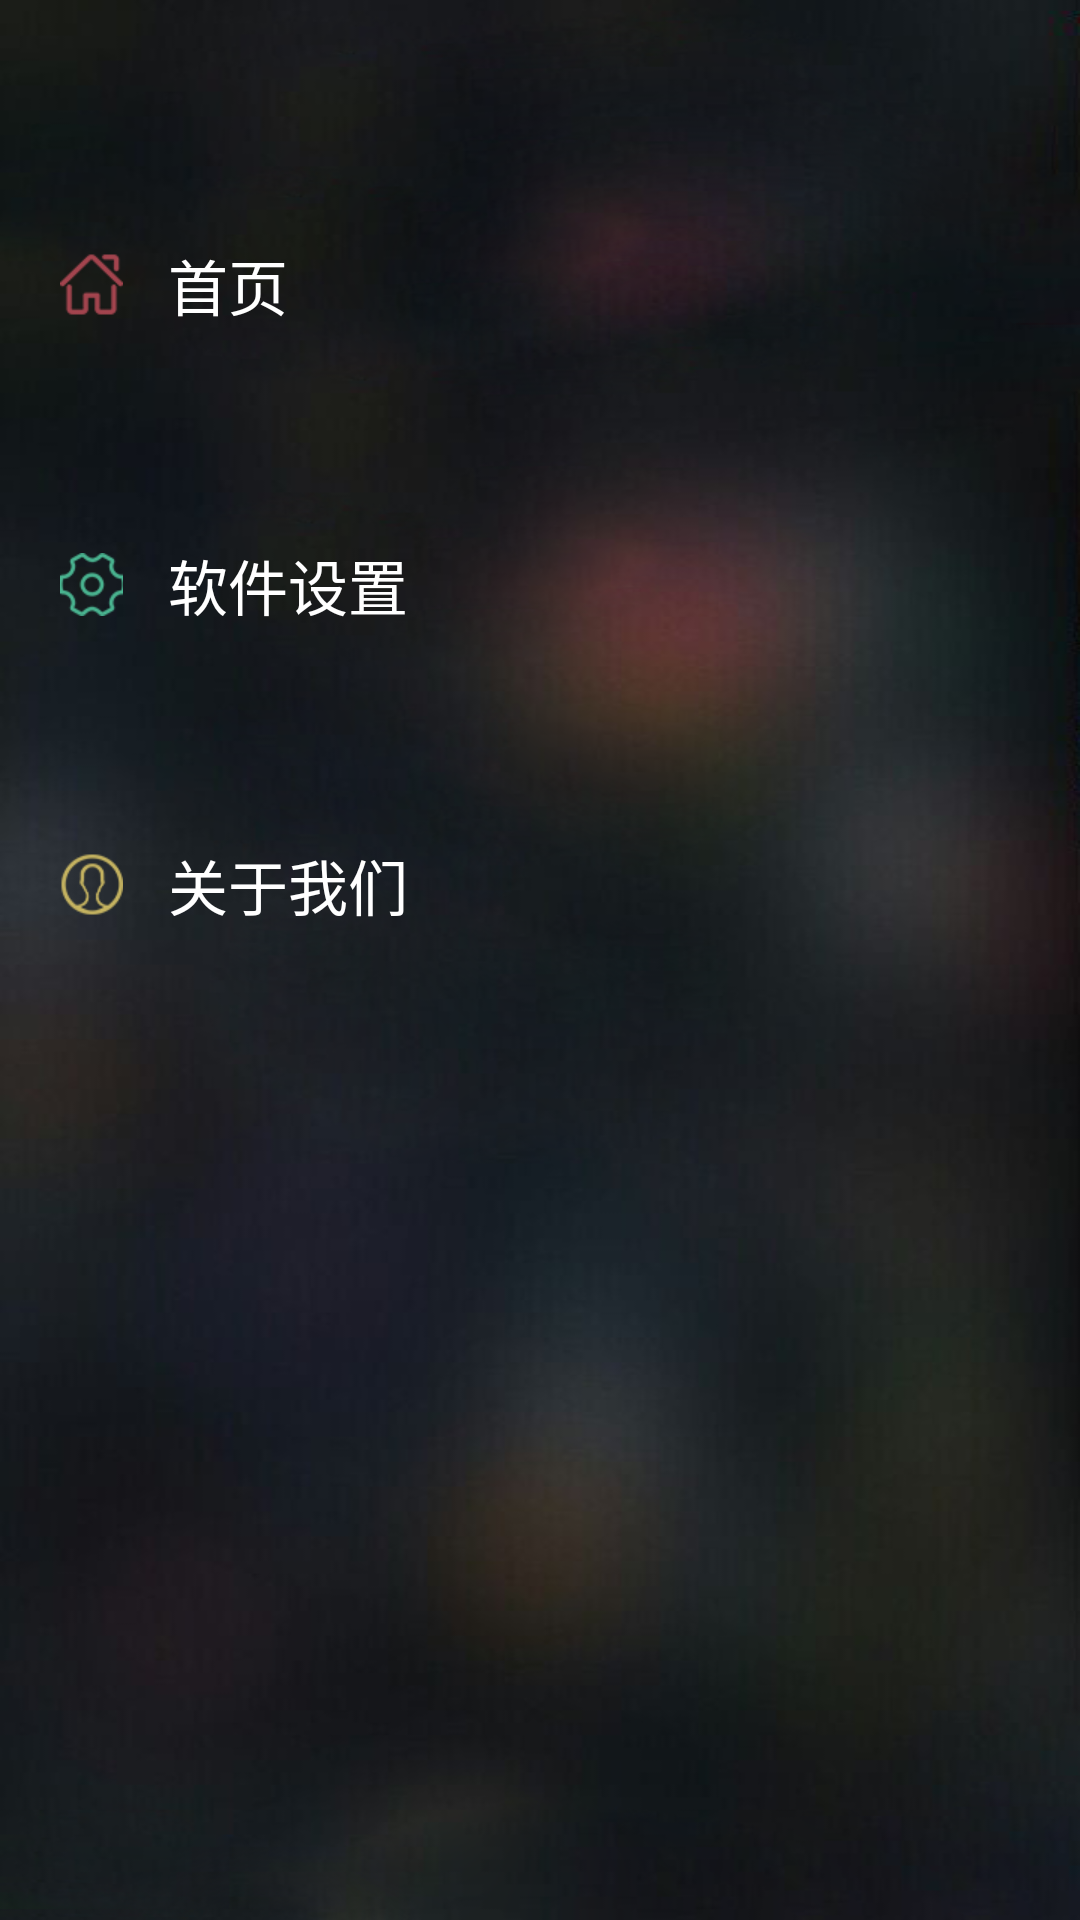

Named icons in this screenshot (1080 x 1920) and their bounding boxes, (x1, y1, x2, y2):
leftmenu about: (61, 854, 123, 915)
leftmenu home: (60, 254, 123, 315)
leftmenu setting: (60, 553, 123, 616)
